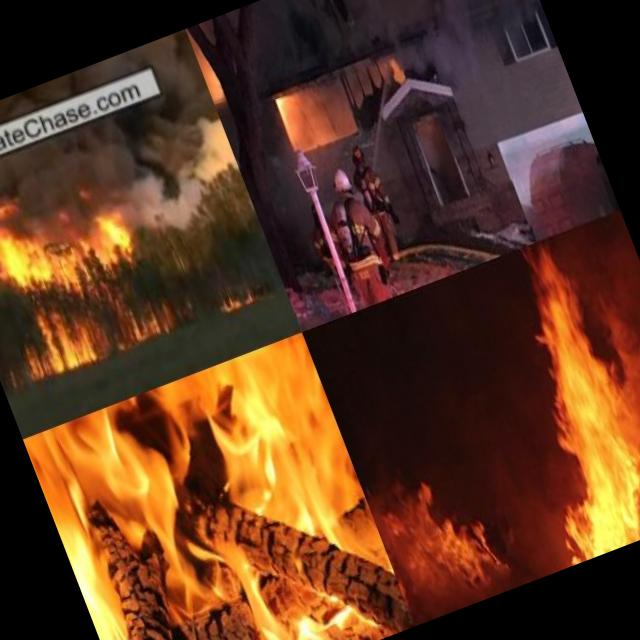fire: (24, 335, 415, 640), (432, 210, 640, 576), (0, 183, 181, 385), (360, 442, 521, 620), (202, 270, 268, 322), (190, 36, 230, 106), (264, 79, 306, 145)
smoke: (105, 88, 252, 244), (0, 119, 125, 250), (386, 3, 493, 113), (433, 0, 541, 30)
